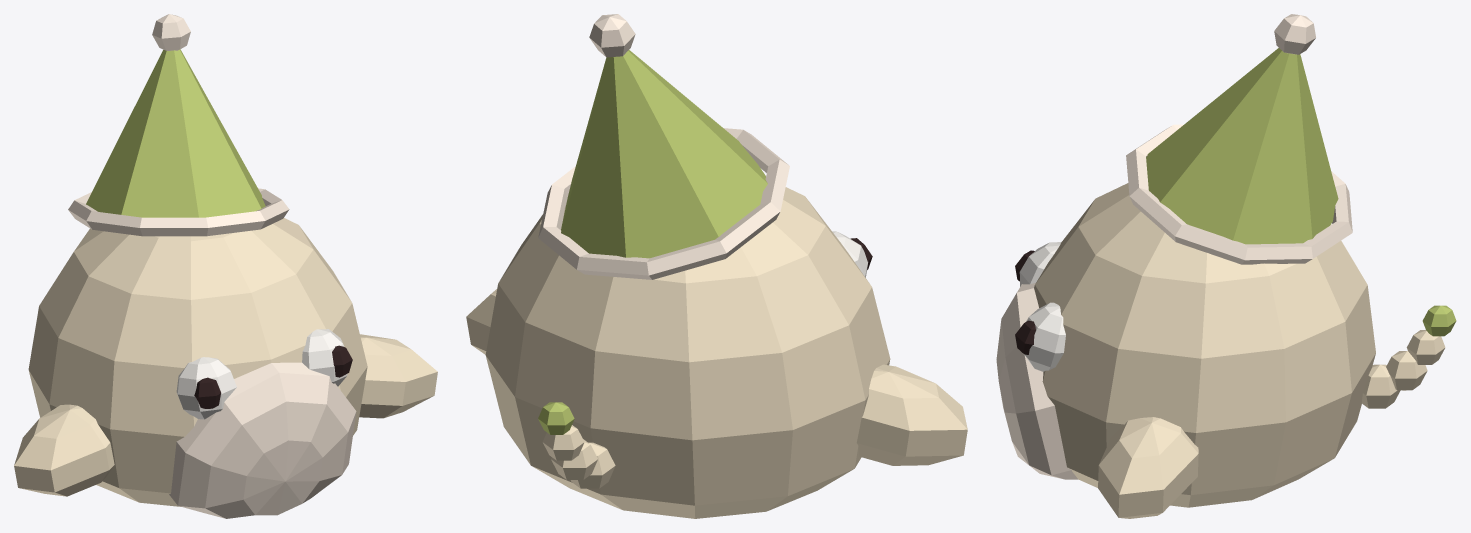
File: blob-volcanic-2.glb
3 renders of one model, left to right at view 1: azimuth 30°, elevation 25°; view 2: azimuth 150°, elevation 25°; view 3: azimuth 270°, elevation 25°, orthographic. The views are drawn at different scales.
Visible parts, largest first — view 1: blob-volcanic-2; view 2: blob-volcanic-2; view 3: blob-volcanic-2.
Part boxes in pixels (x1,y1,x2,y2): blob-volcanic-2: (14,14,437,518); blob-volcanic-2: (466,14,967,518); blob-volcanic-2: (996,14,1456,518).
Size of the model in its own units: 0.948 by 0.8828 by 0.8256.
